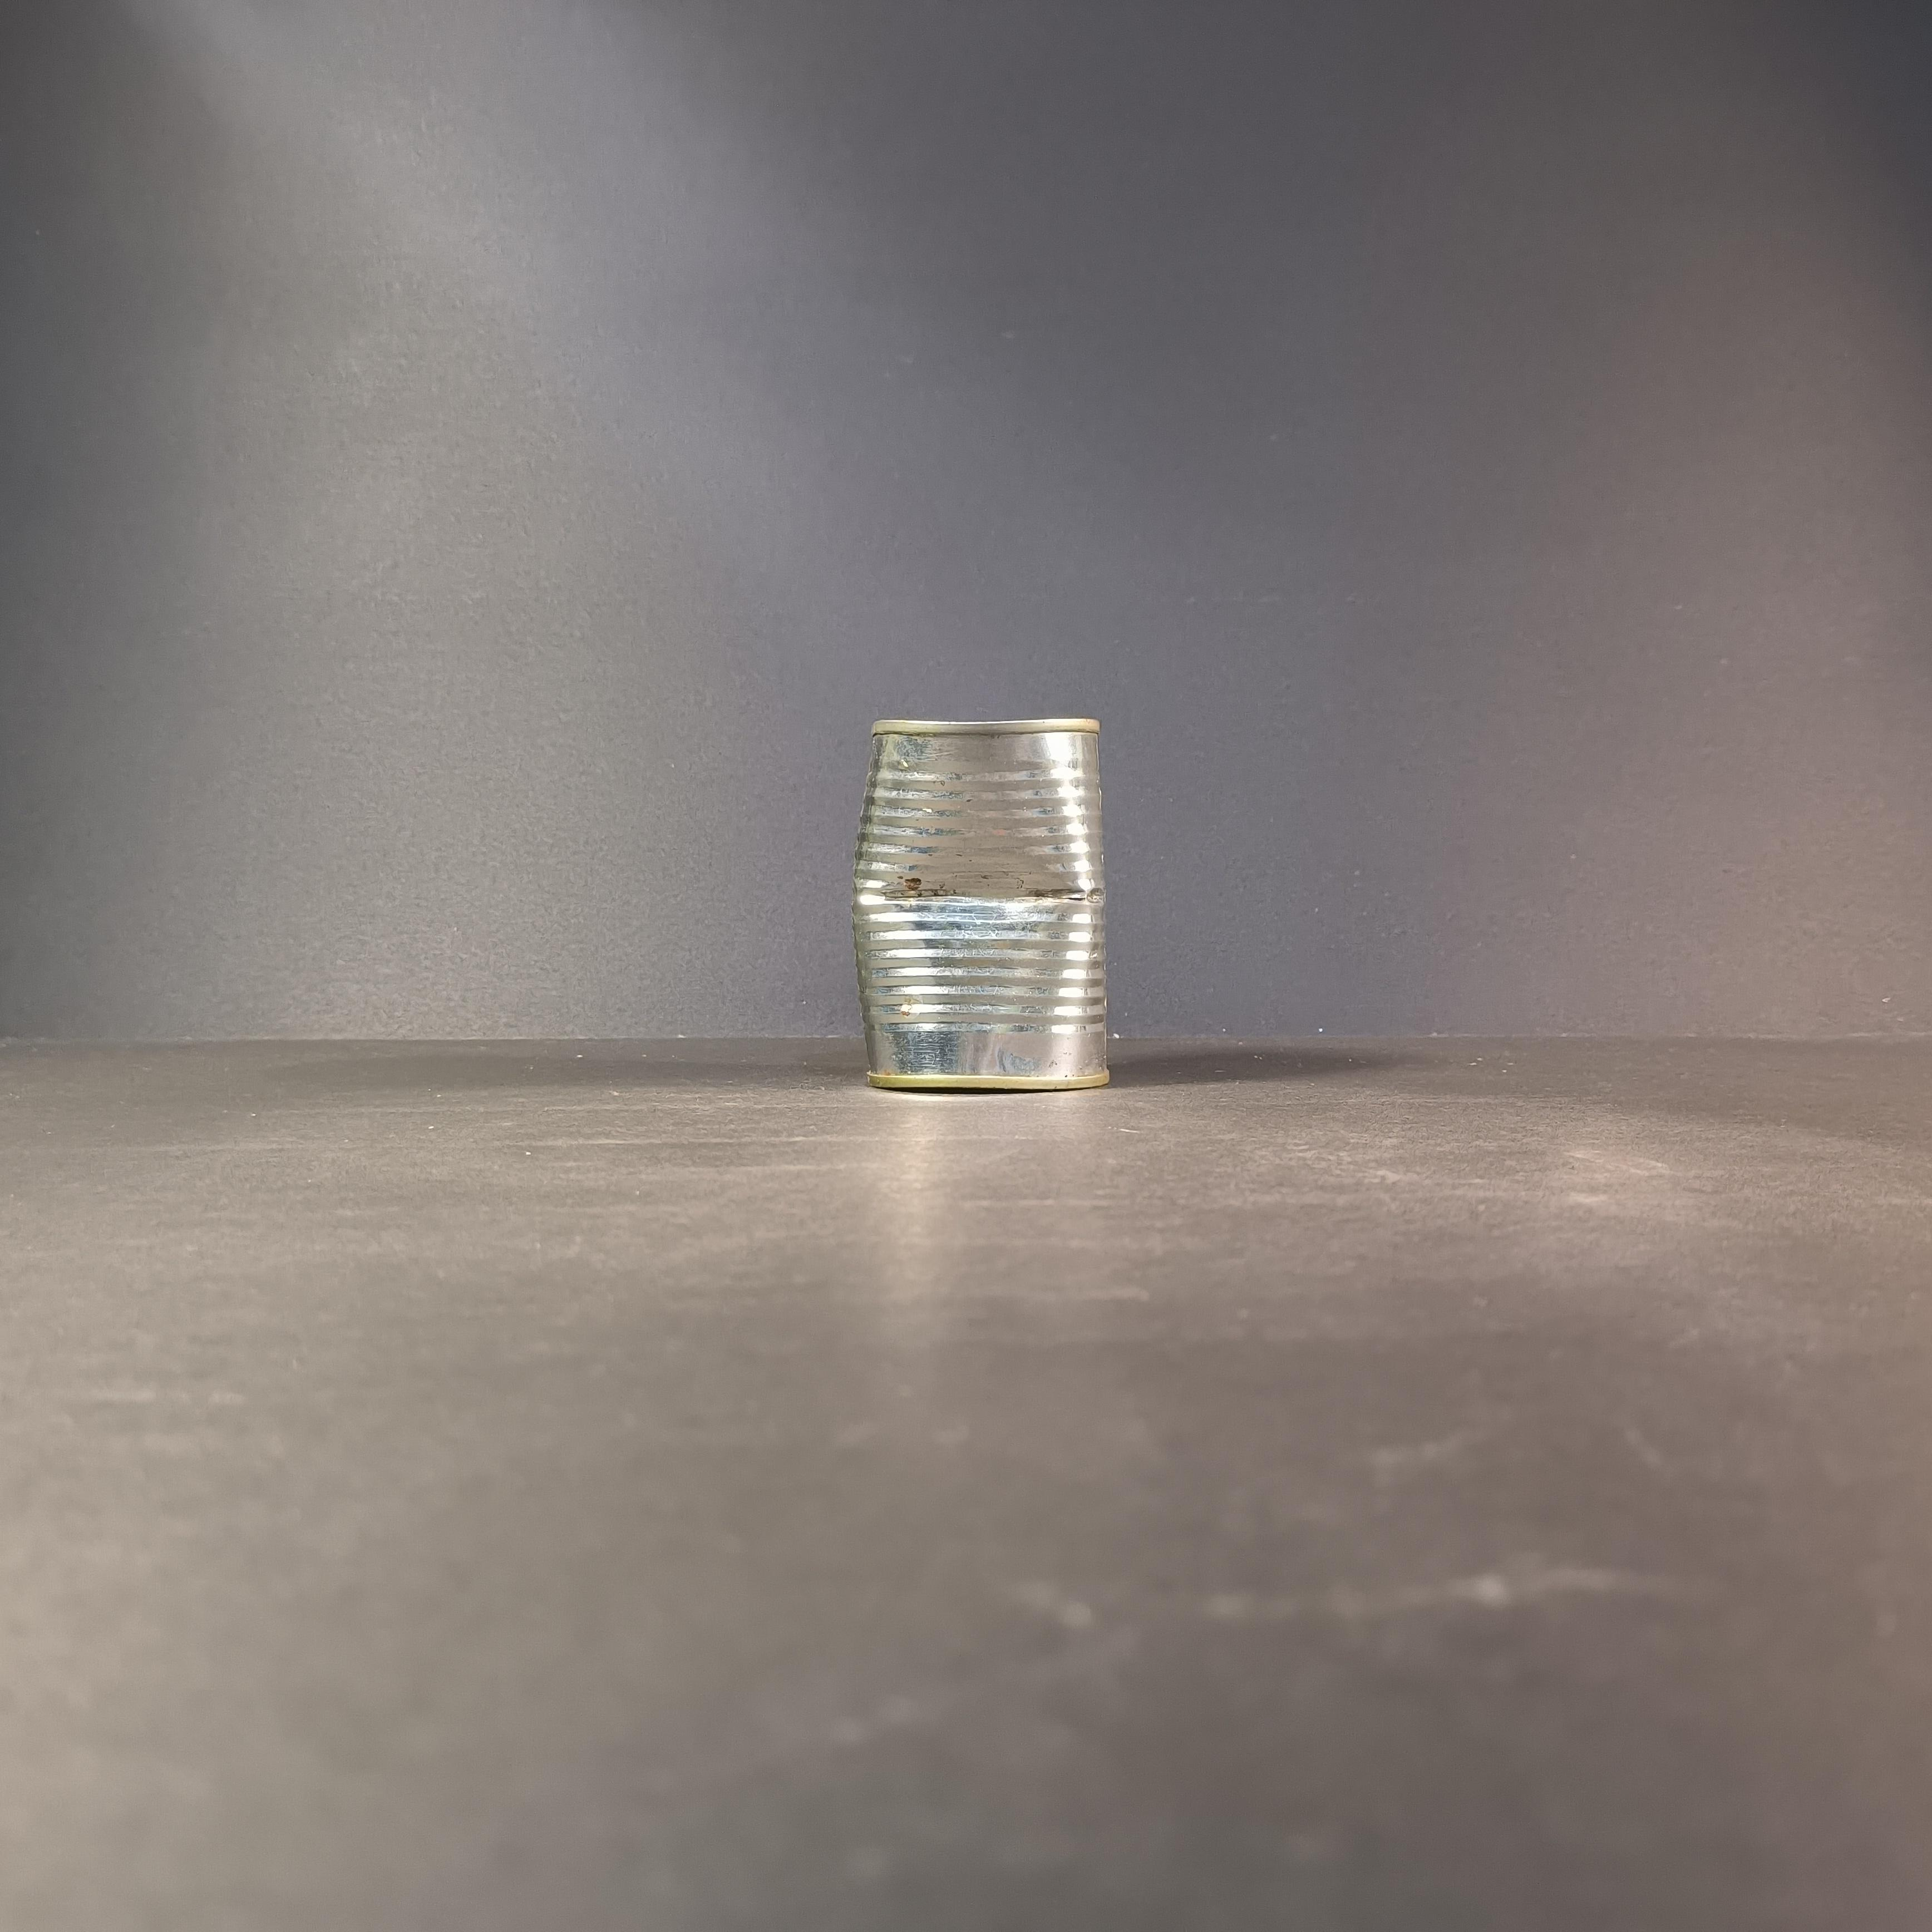Dented: (830, 667, 1136, 1132)
